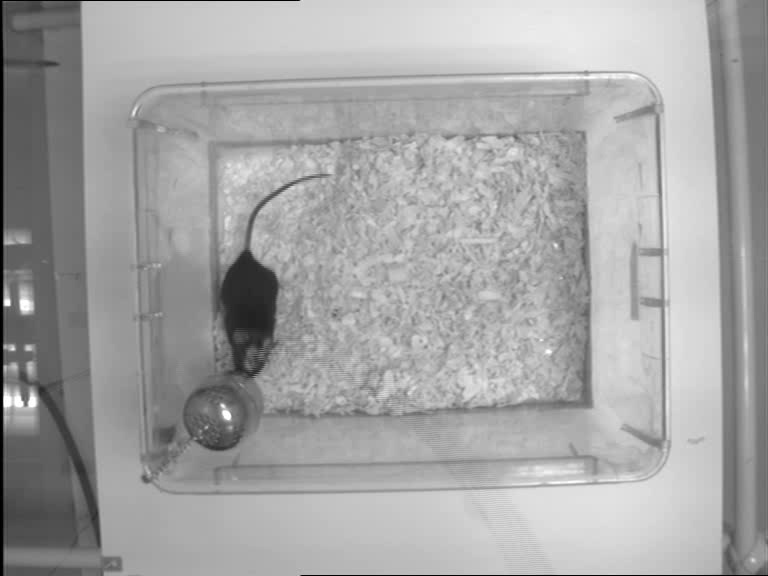mice: (218, 170, 337, 375)
